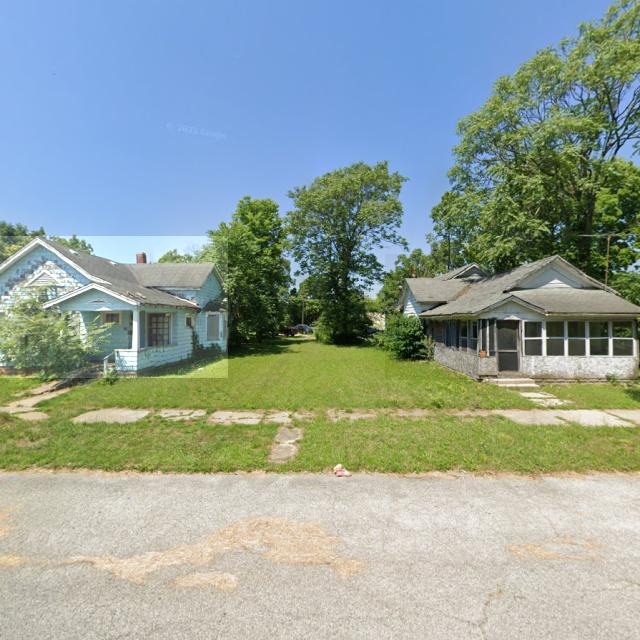House: (0, 236, 228, 378), (385, 254, 640, 380)
